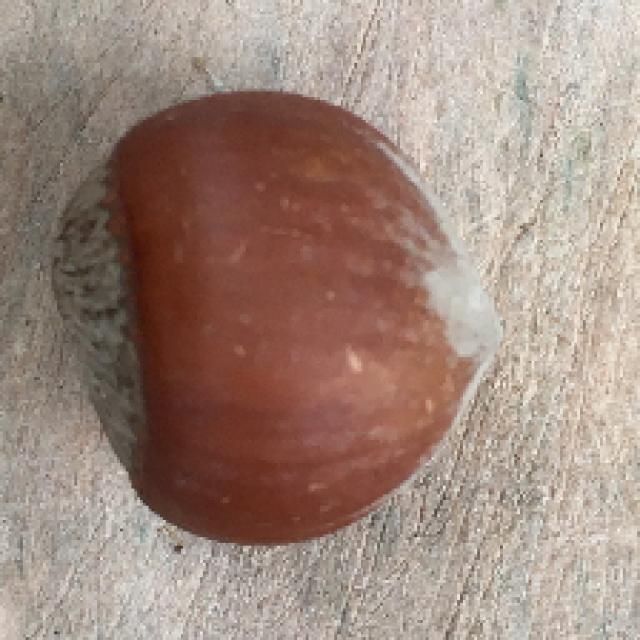qualityHazelnut: (46, 80, 507, 549)
